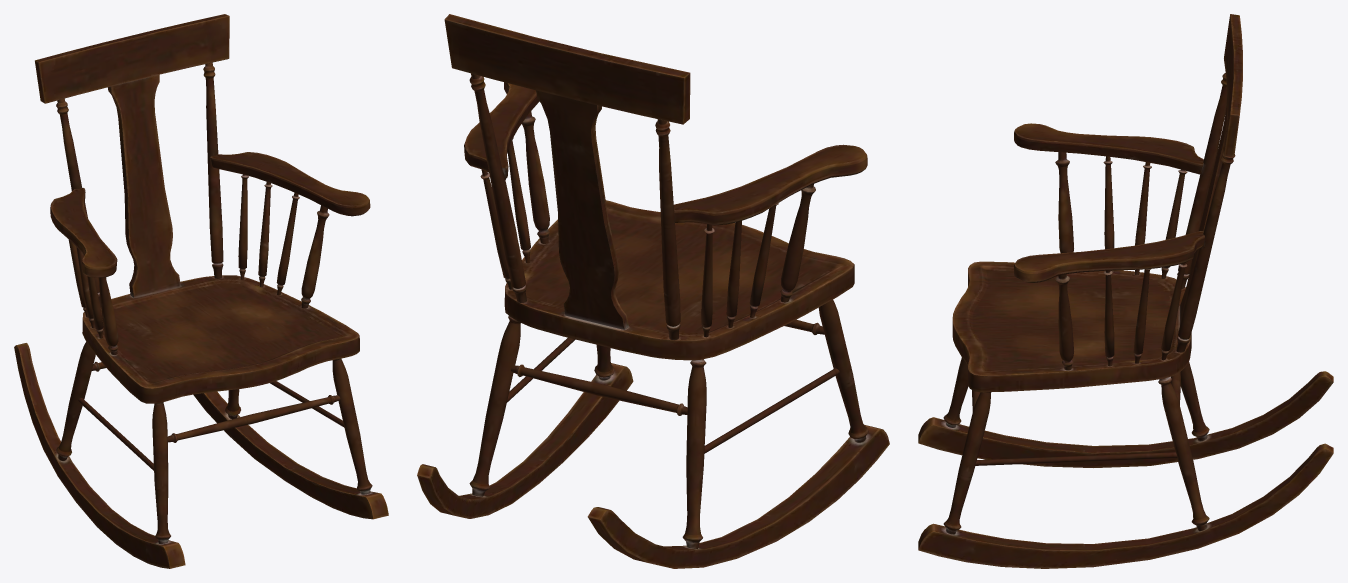
Rendered from rockingchair_01.glb.
3 views of the same model, side by side, from view 1: azimuth 30°, elevation 25°; view 2: azimuth 150°, elevation 25°; view 3: azimuth 270°, elevation 25° (orthographic). The views are drawn at different scales.
Visible parts, largest first — view 1: Rockingchair_01; view 2: Rockingchair_01; view 3: Rockingchair_01.
Boxes of the visible parts, x1,y1,x2,y2 form: Rockingchair_01: (14, 14, 388, 568); Rockingchair_01: (417, 14, 889, 568); Rockingchair_01: (918, 14, 1333, 568).
Bounding box in the file's own units: 0.7081 × 0.9949 × 0.8335.
1 material, 1 textured.
